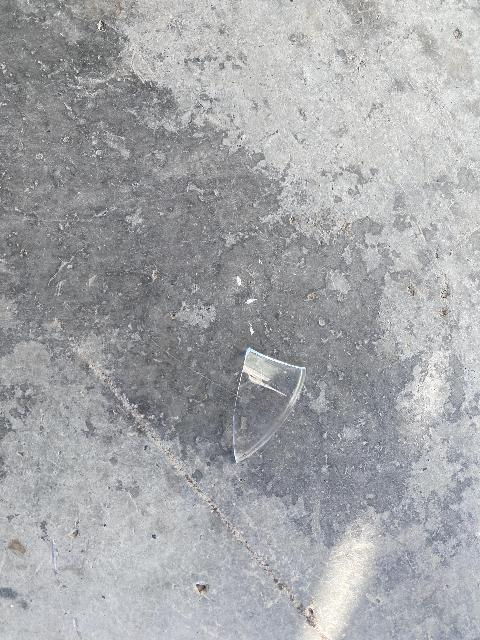Cam: (227, 340, 306, 465)
